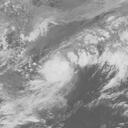cyclone: (36, 56, 78, 96)
